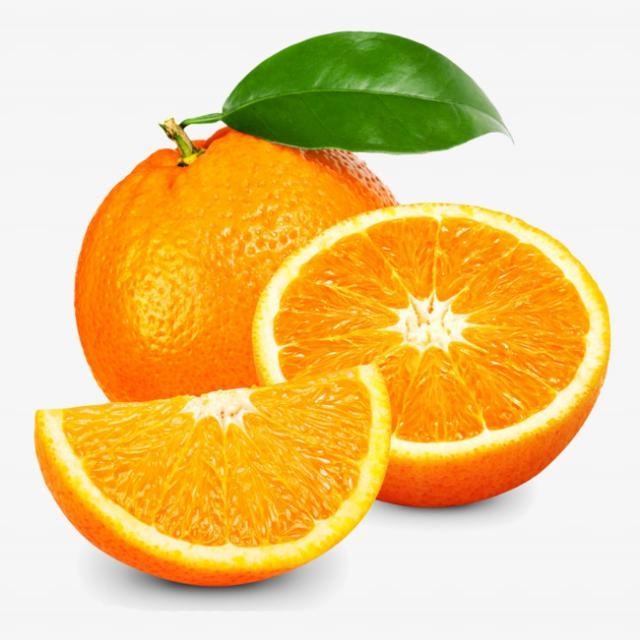orange: (38, 100, 620, 563)
